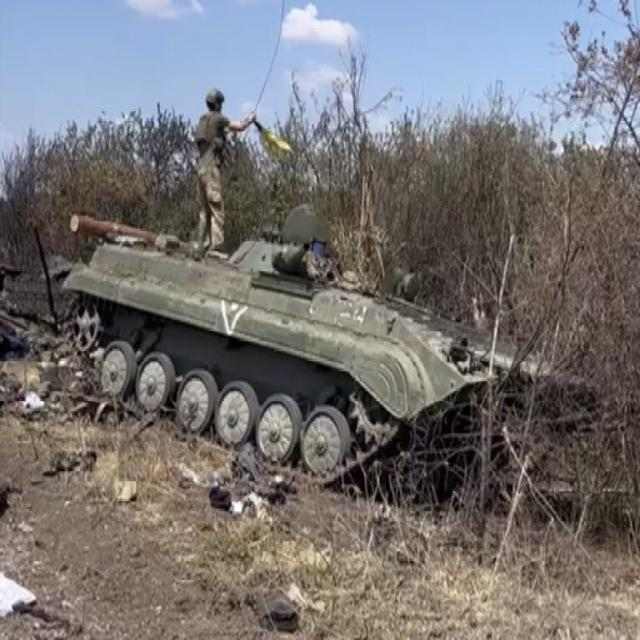APC-IFV: (61, 189, 496, 518)
